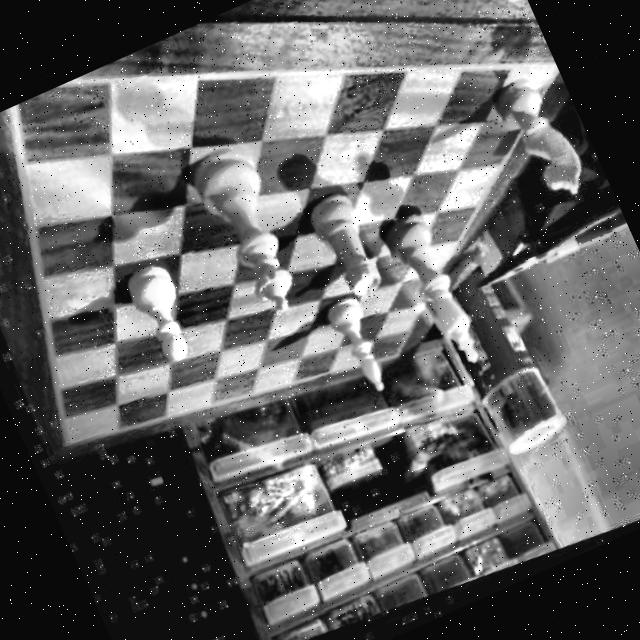white-bishop: (315, 294, 400, 411)
white-knight: (363, 200, 495, 392), (474, 64, 598, 220)
white-pawn: (106, 256, 212, 388)
white-queen: (168, 140, 316, 339)
white-rook: (290, 182, 394, 319)
